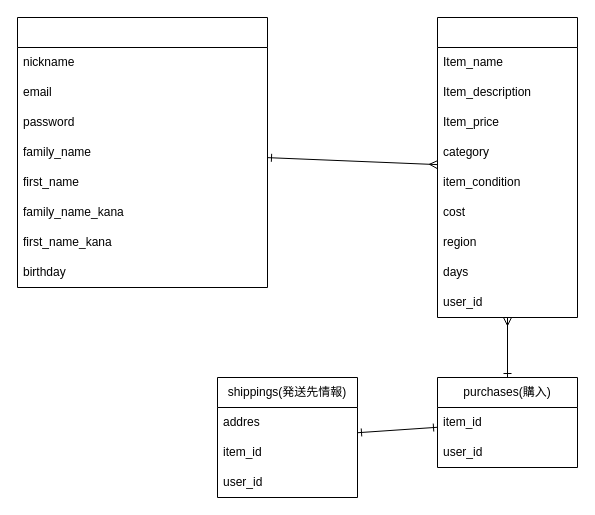
This 595x515 diagram has some shape labels left out. The shapes that lost their labels are listed below. From the top down, each one's box as (x1, y1, x2, y2) in pixels, then its label:
(16, 16, 268, 288): users
(436, 16, 578, 318): items(出品)
